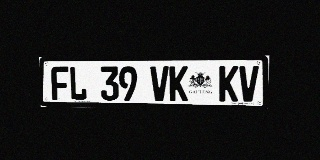3: (100, 66, 119, 101)
9: (119, 66, 137, 101)
F: (51, 66, 69, 100)
K: (219, 66, 239, 101), (169, 66, 188, 101)
L: (69, 66, 87, 100)
V: (239, 66, 259, 102), (150, 66, 169, 101)
